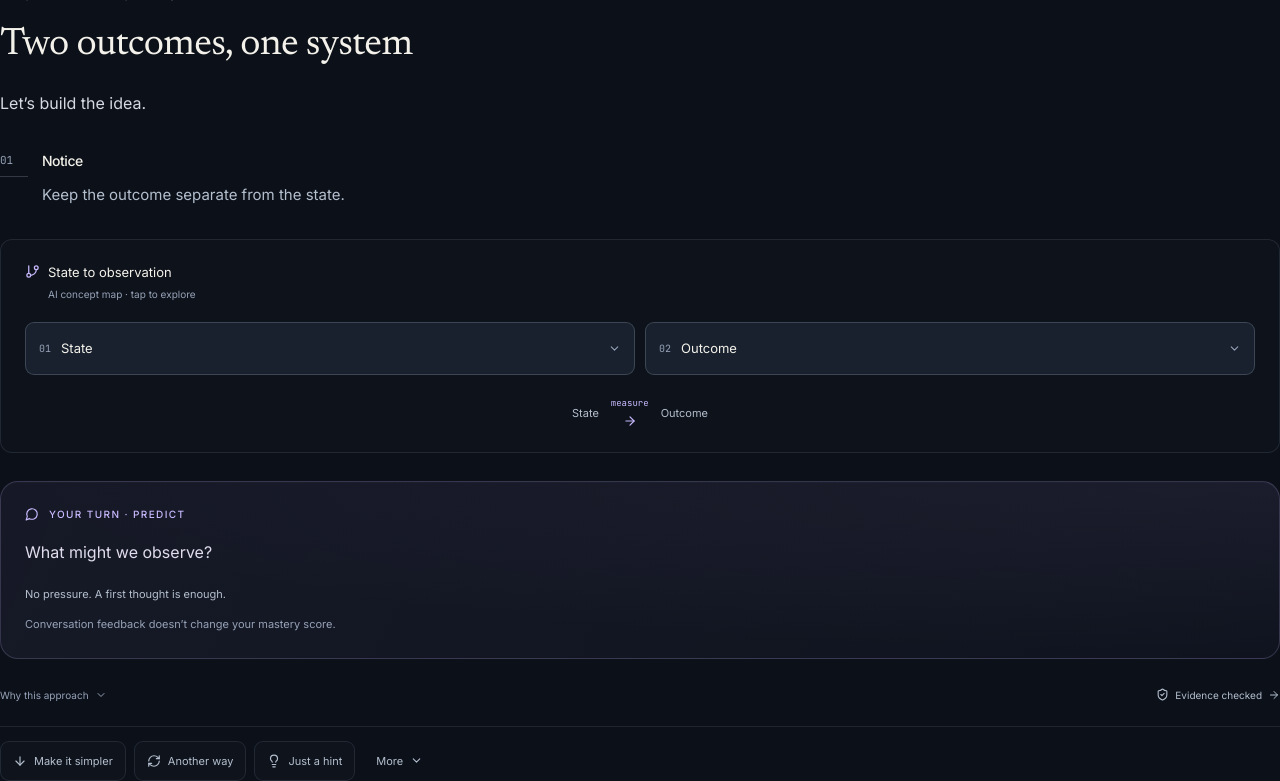
adaptive teacher › keeps secondary teaching actions behind a reversible disclosure
This screenshot has width=1280, height=781.
(page scrolled)
Check: the button "Map it out" is not shown
Click the button with aria-label "More ways to learn". click: (400, 761)
box: [363,741,436,780]
(page scrolled)
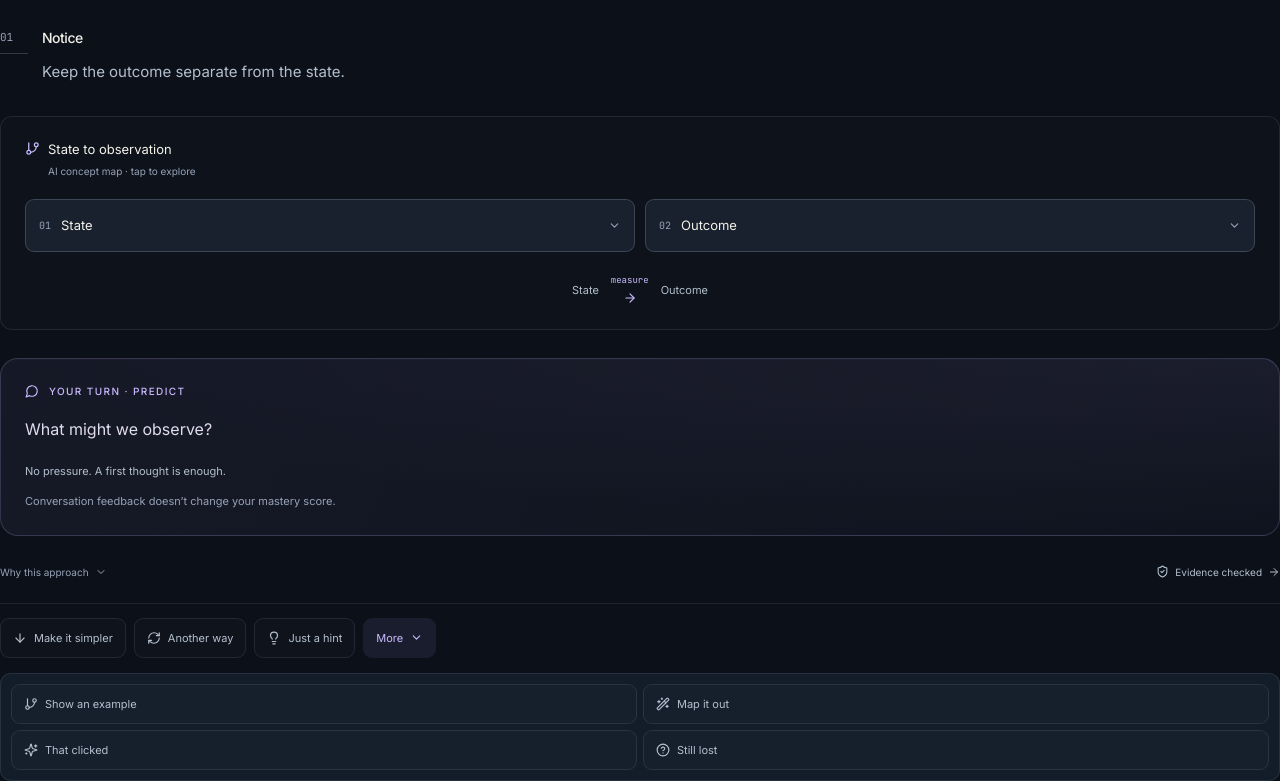
Check: the button with aria-label "More ways to learn" is expanded, box [363,618,436,658]
Click the button "Map it out". click: (703, 704)
box: [643,684,1269,724]
(page scrolled)
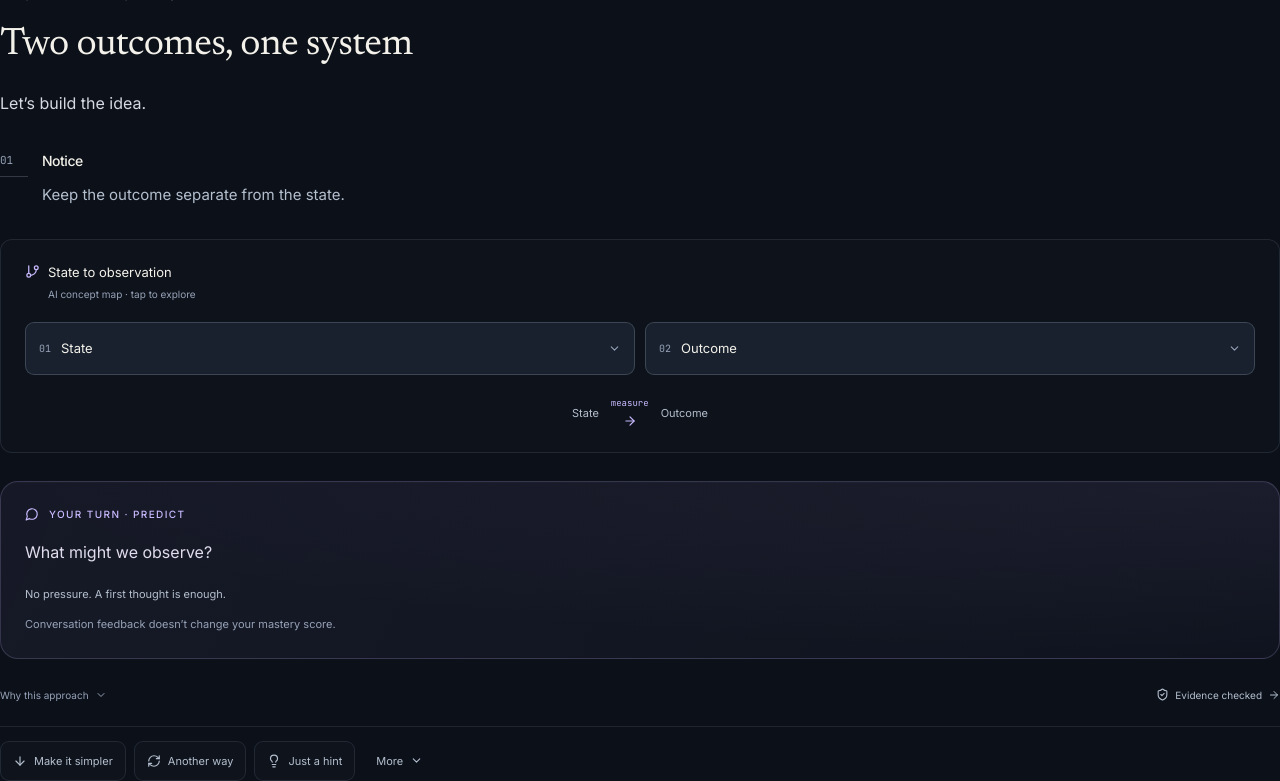
Check: the button "Map it out" is gone
